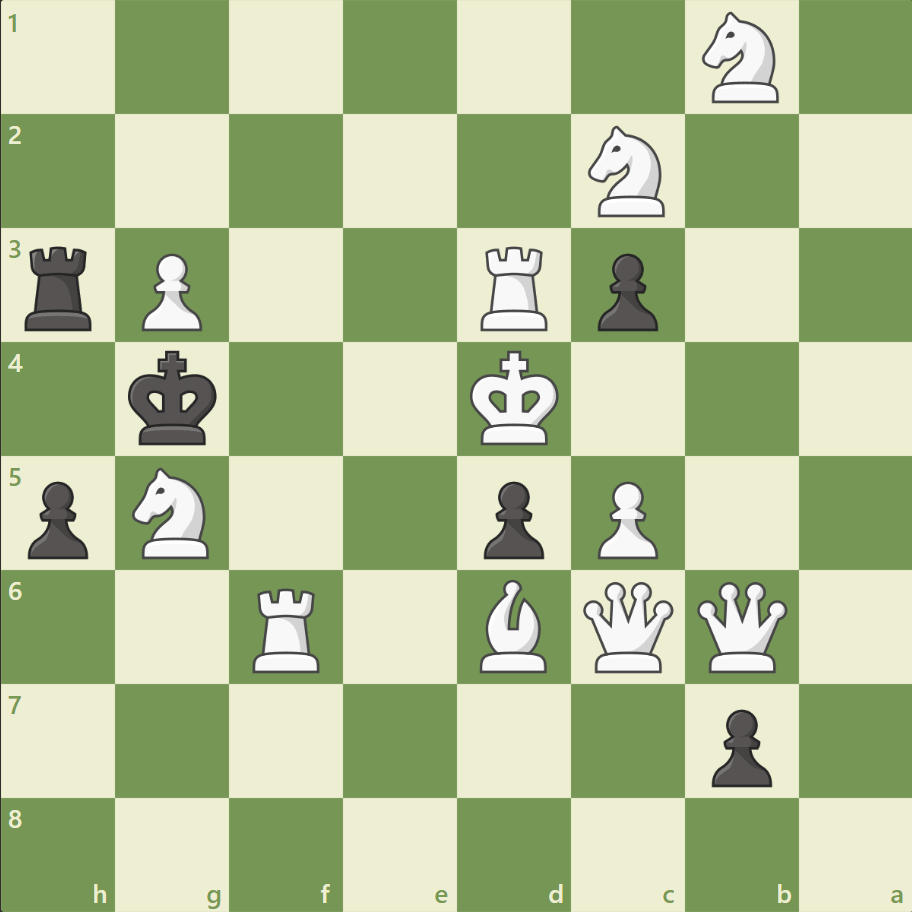B: (471, 574, 555, 676)
K: (465, 344, 565, 452)
N: (124, 461, 222, 564), (692, 7, 789, 110), (579, 121, 676, 223)
P: (133, 246, 208, 337), (588, 473, 662, 564)
Q: (691, 576, 790, 676), (578, 576, 677, 676)
R: (246, 579, 329, 676), (473, 239, 556, 336)
k: (124, 344, 224, 452)
p: (701, 700, 776, 791), (474, 473, 549, 564), (20, 473, 95, 564), (588, 246, 662, 337)
r: (19, 239, 102, 336)
